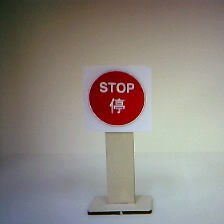stop: (79, 62, 153, 137)
